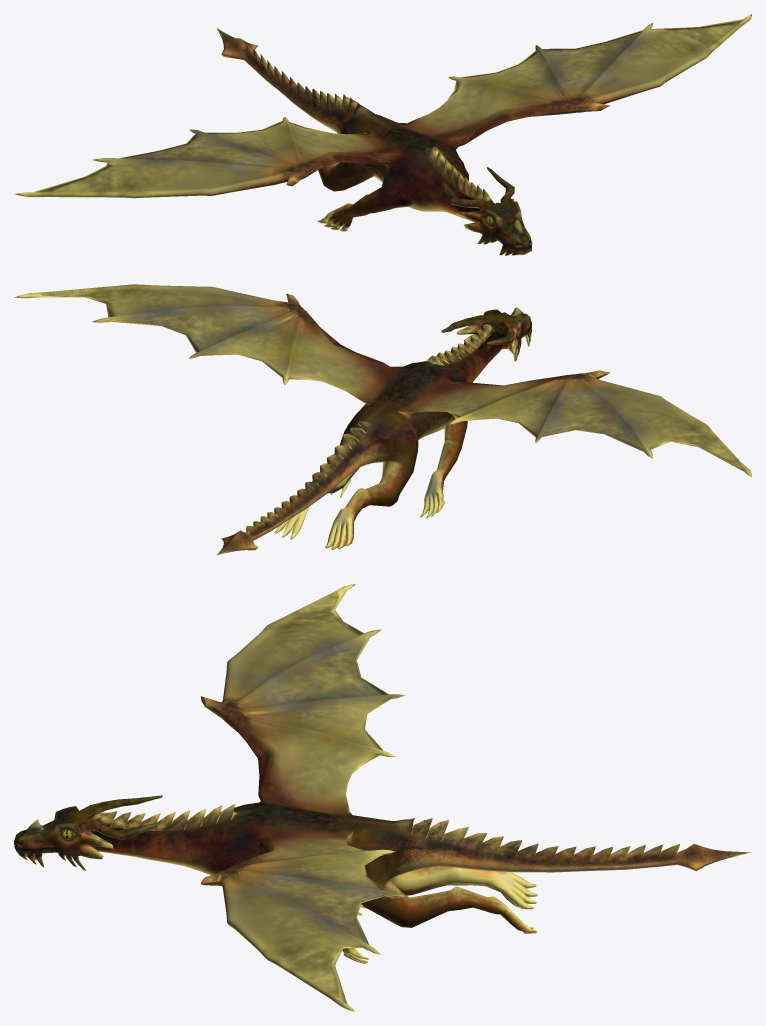
The model's file is dr_single_001.dae.
The picture shows the model from 3 angles, top to bottom: view 1: azimuth 30°, elevation 25°; view 2: azimuth 150°, elevation 25°; view 3: azimuth 270°, elevation 25°; orthographic projection. The views are drawn at different scales.
Parts seen in each view (by area): view 1: dragon_017; view 2: dragon_017; view 3: dragon_017.
Boxes of the visible parts, x1=… form: dragon_017: x1=14, y1=14, x2=751, y2=255; dragon_017: x1=14, y1=284, x2=751, y2=555; dragon_017: x1=14, y1=584, x2=751, y2=1011.
Bounding box in the file's own units: 1.23 × 0.8995 × 0.2099.
Materials: 1 (1 with a texture image).
